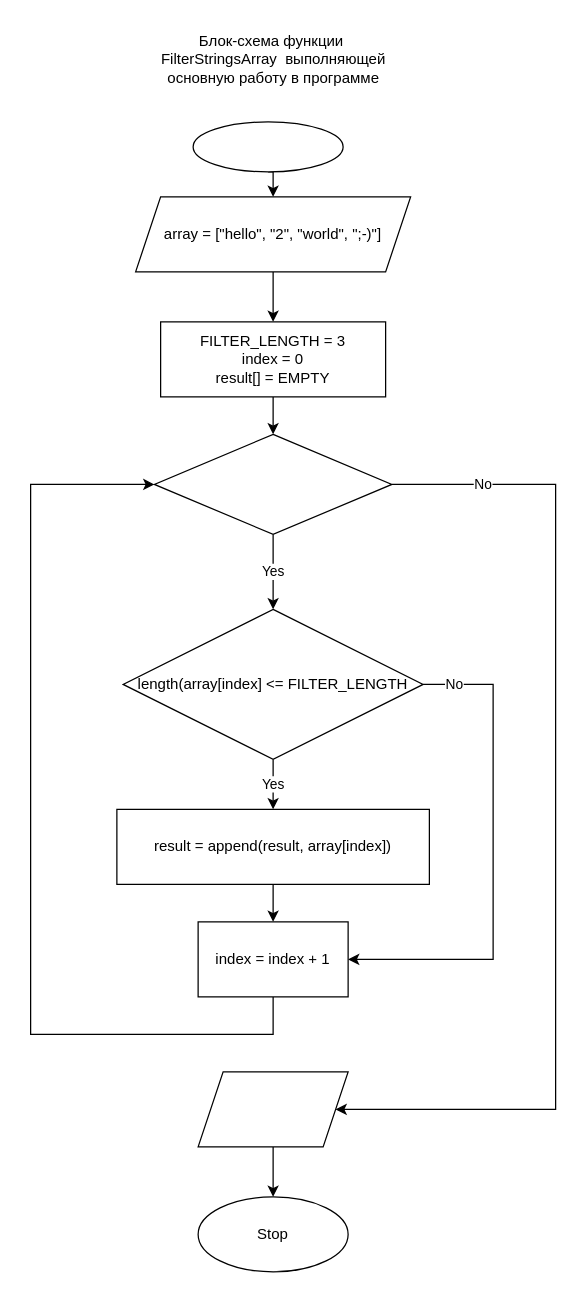
This 588x1294 diagram has some shape labels left out. The shapes that lost their labels are listed below. From the top down, each one's centre as x and y in pixels, then its label:
At point 267,146: "Start".
At point 272,483: "index < length(array)".
At point 272,1109: "return result[]".
